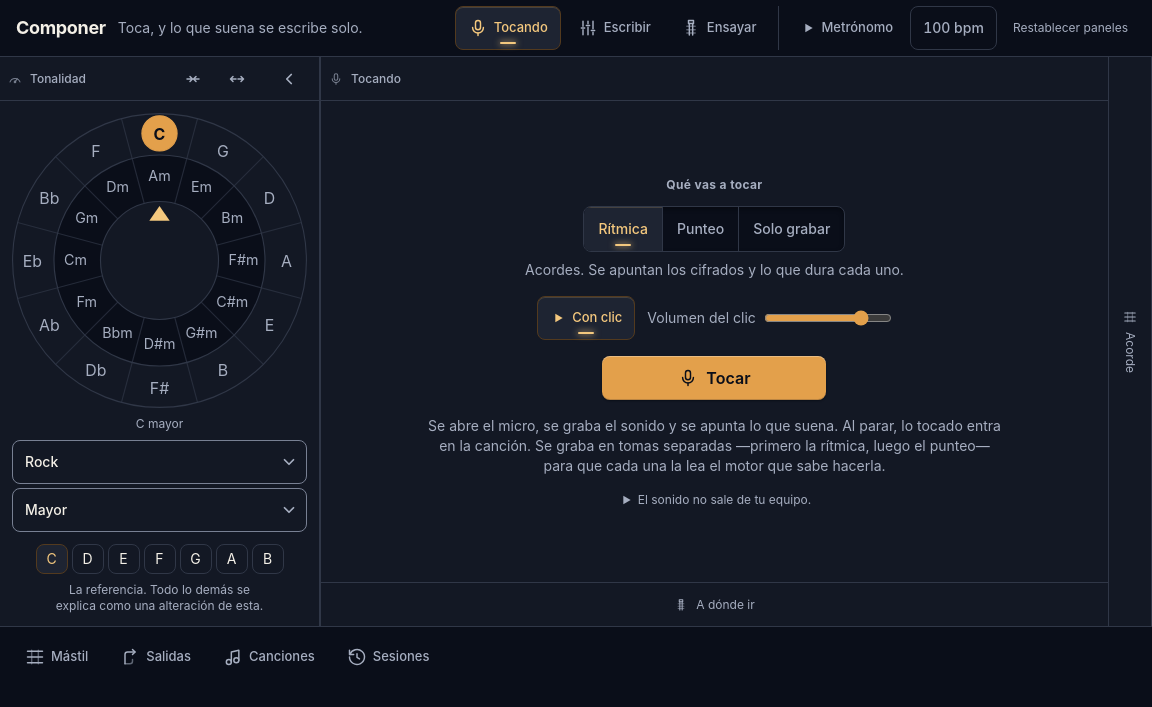
Test: Lo que llega en diferido › el lienzo llega al pasar a escribir, y mientras tanto lo dice
Click the button "Escribir" at [614, 28], box [565,6,664,50]
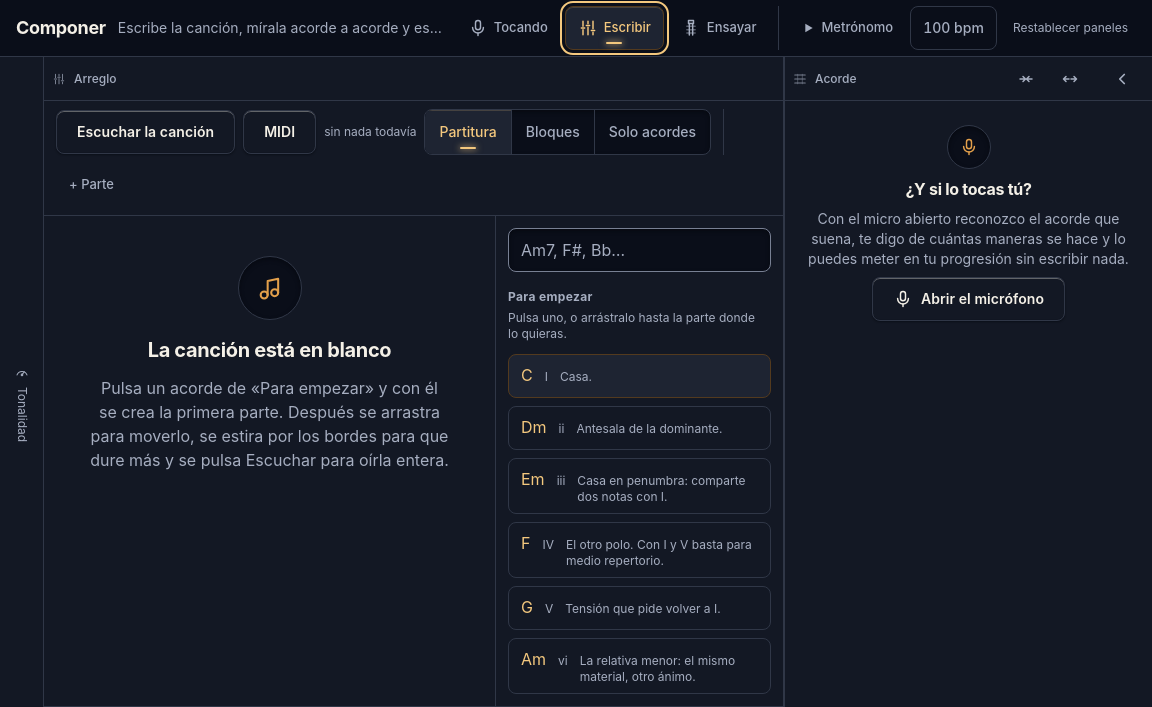
Result: the button "Escuchar la canción" is shown at [56,110,235,154]
